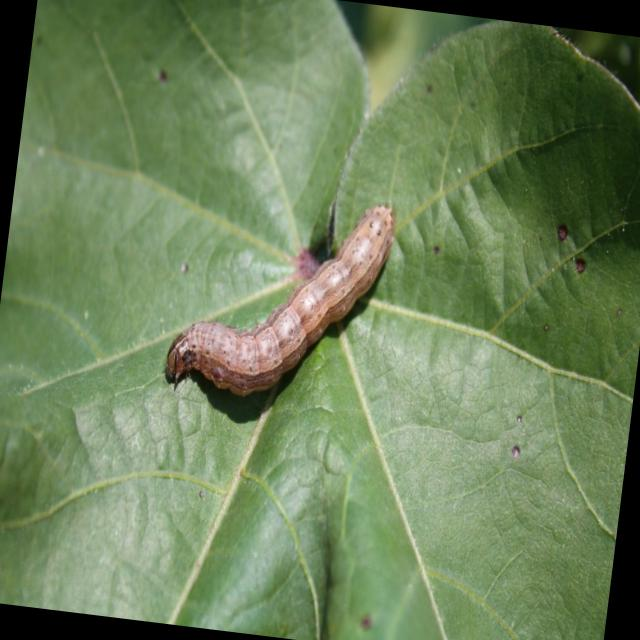Armyworm: (103, 114, 527, 477)
Armyworm_damage: (560, 225, 602, 309), (545, 216, 578, 257)
